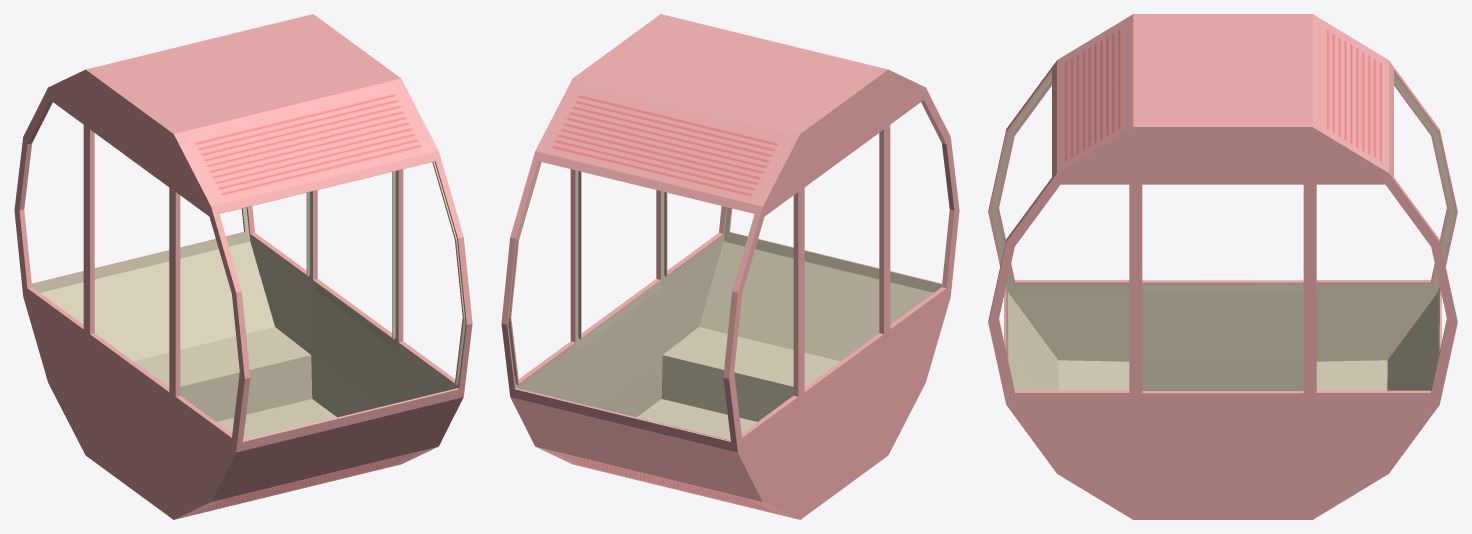
File: ferris wheel-2.glb
3 renders of one model, left to right at view 1: azimuth 30°, elevation 25°; view 2: azimuth 150°, elevation 25°; view 3: azimuth 270°, elevation 25°, orthographic.
Parts seen in each view (by area): view 1: ferris wheel, ferris wheel door; view 2: ferris wheel, ferris wheel door; view 3: ferris wheel, ferris wheel door.
Boxes of the visible parts, x1=… form: ferris wheel: x1=14, y1=14, x2=472, y2=519; ferris wheel door: x1=311, y1=170, x2=399, y2=406; ferris wheel: x1=501, y1=14, x2=959, y2=519; ferris wheel door: x1=574, y1=170, x2=662, y2=406; ferris wheel: x1=988, y1=14, x2=1457, y2=519; ferris wheel door: x1=1133, y1=173, x2=1312, y2=473.
Size of the model in its own units: 1.14 by 1.85 by 2.
Materials: 1 (1 with a texture image).
